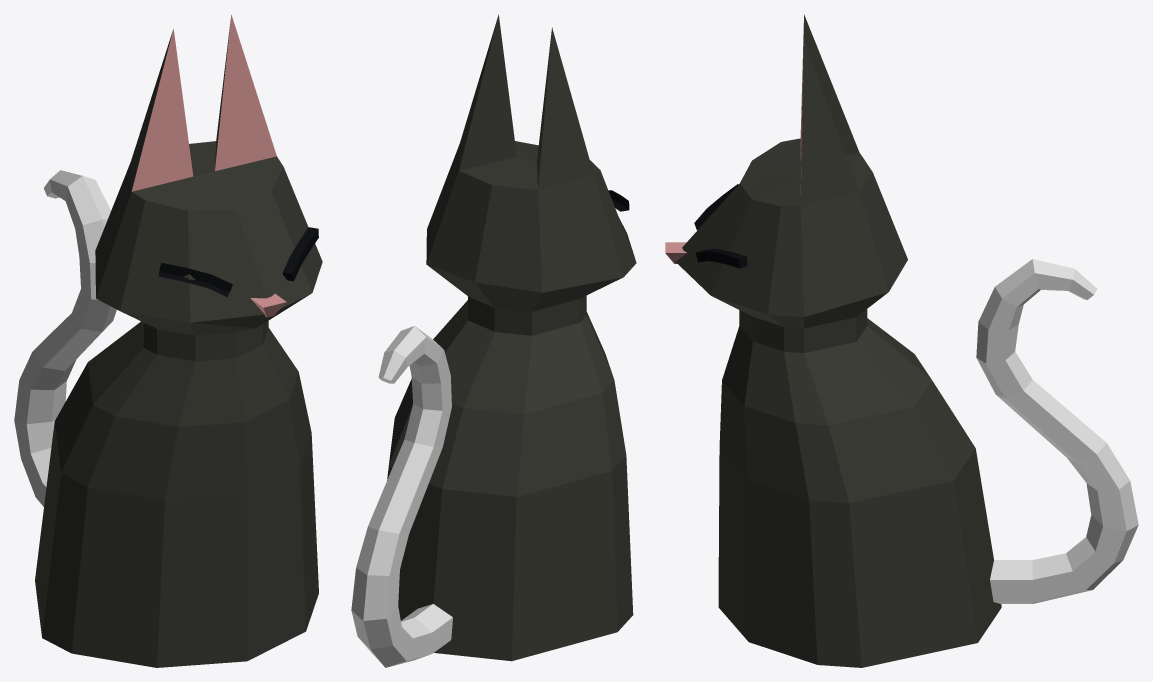
The model's file is cat_black.fbx.
The picture shows the model from 3 angles, left to right: view 1: azimuth 30°, elevation 25°; view 2: azimuth 150°, elevation 25°; view 3: azimuth 270°, elevation 25°; orthographic projection. The views are drawn at different scales.
Parts seen in each view (by area): view 1: cat, tail; view 2: cat, tail; view 3: cat, tail.
Boxes of the visible parts, <box> form: cat: <box>35,15,322,667</box>; tail: <box>14,170,116,506</box>; cat: <box>387,14,636,661</box>; tail: <box>351,326,452,667</box>; cat: <box>665,14,1001,667</box>; tail: <box>976,259,1138,603</box>.
Size of the model in its own units: 0.53 by 1.18 by 0.8752.
